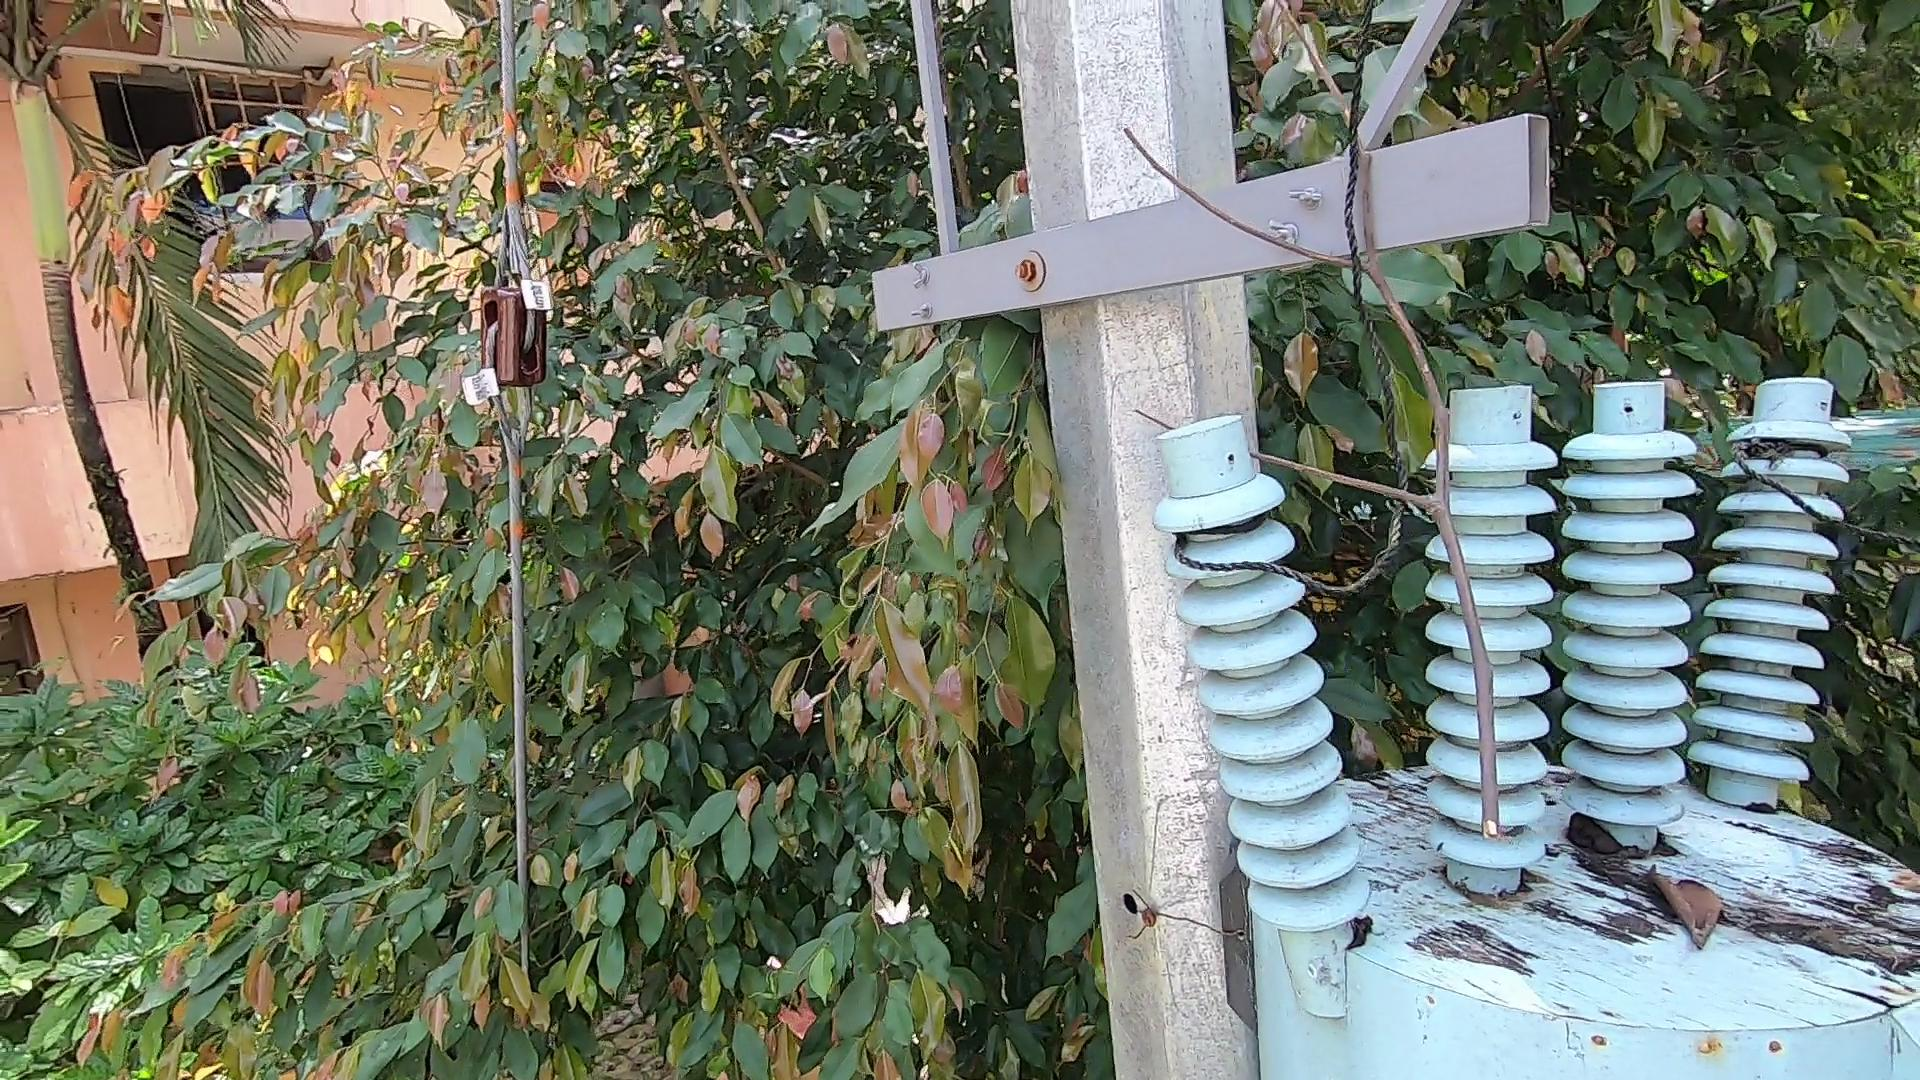leaf: (1644, 855, 1741, 952), (1560, 807, 1619, 866)
tree branch: (1095, 30, 1526, 843)
